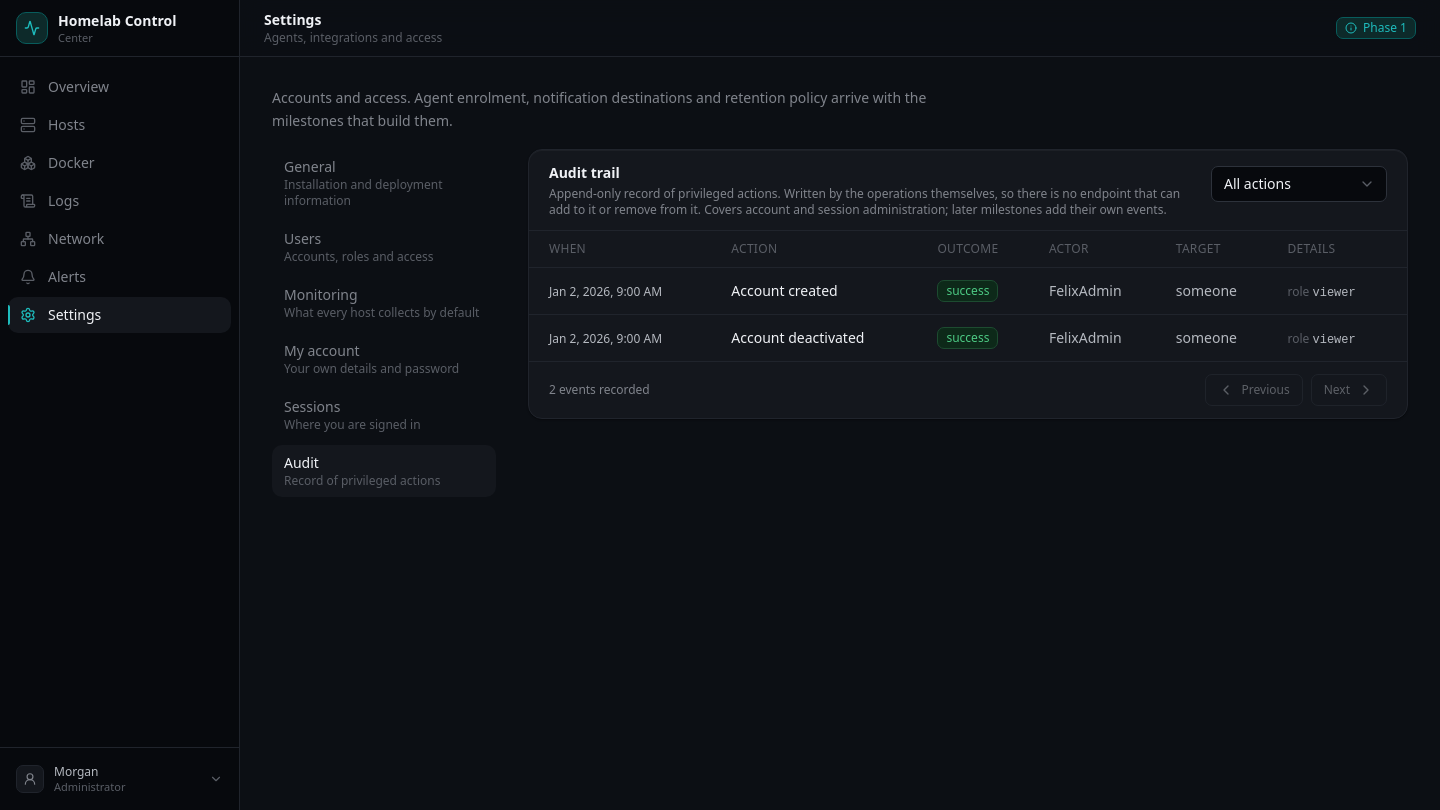
Scenario: audit filtering › shows an empty state scoped to the filter
Expected: the table named "audit events" is shown, x1=529 y1=230 x2=1407 y2=360
Select "Password changed" in the dropdown named "Filter by action" at (1299, 184), box x1=1211 y1=166 x2=1387 y2=202
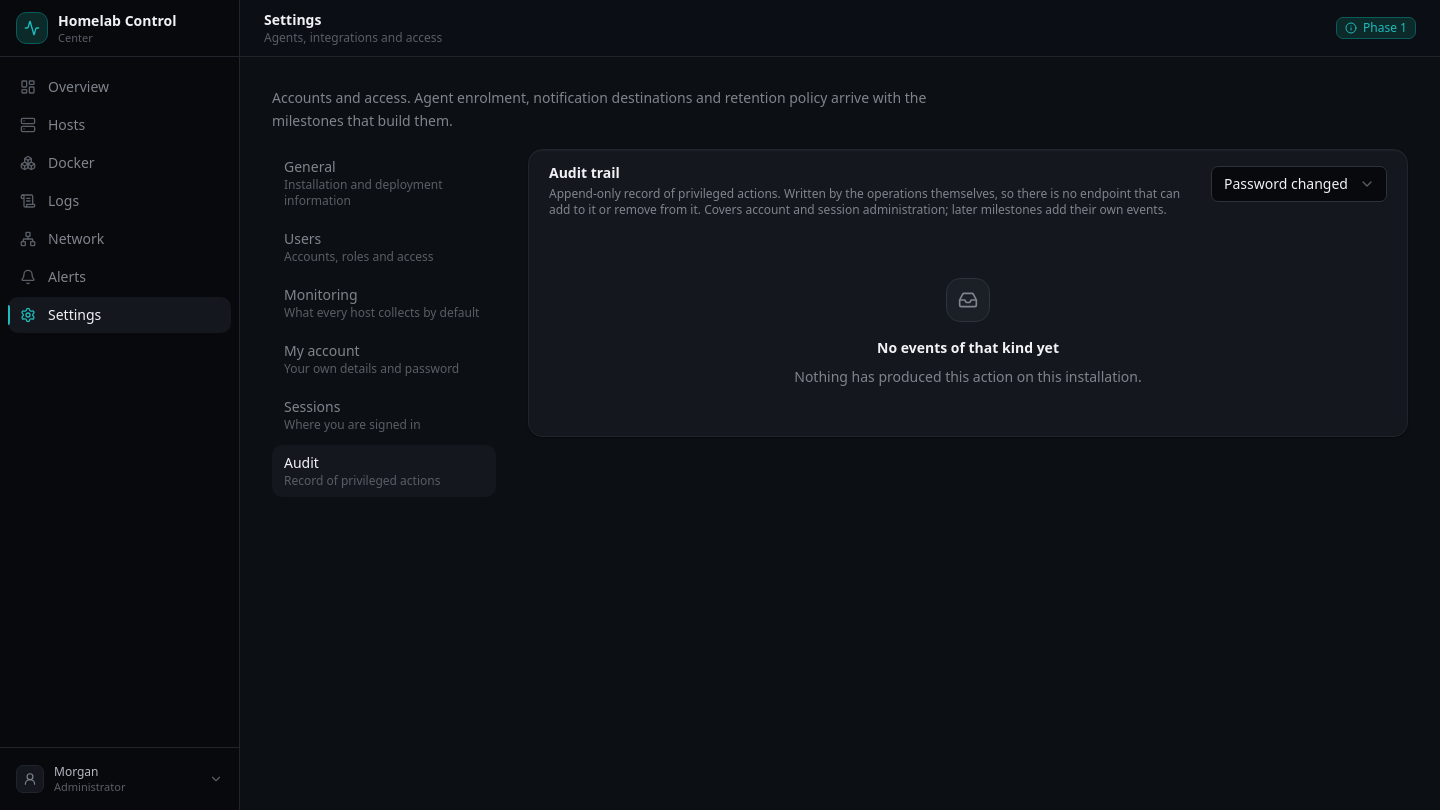
Result: the heading "No events of that kind yet" is shown at x1=877 y1=338 x2=1059 y2=358
